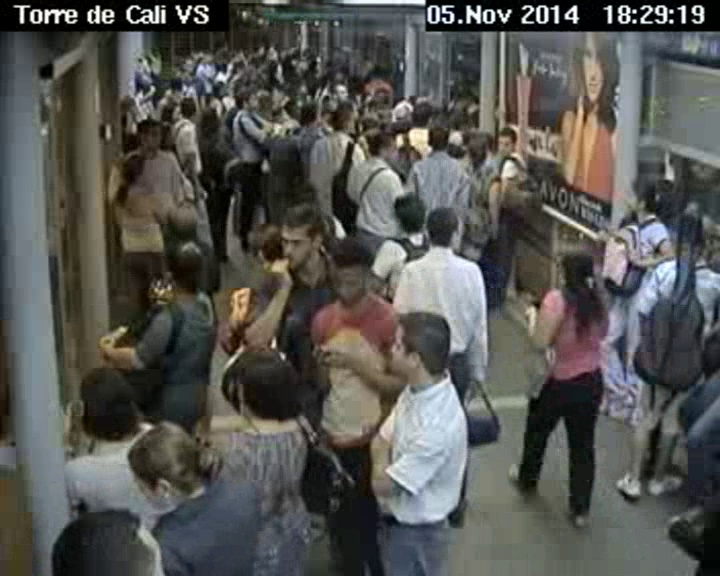person: (39, 504, 182, 576), (123, 422, 217, 510), (378, 310, 462, 390), (223, 342, 300, 419), (75, 364, 146, 436), (274, 202, 325, 284), (327, 236, 376, 307), (155, 229, 204, 293), (541, 236, 596, 292), (250, 217, 297, 280), (427, 204, 478, 257), (621, 168, 667, 224), (678, 213, 717, 261), (385, 190, 427, 233), (368, 127, 396, 165), (131, 121, 163, 151), (327, 102, 356, 132), (175, 94, 200, 127), (294, 101, 323, 129), (232, 88, 264, 113), (409, 100, 437, 128), (202, 96, 225, 129), (469, 129, 492, 161), (497, 126, 517, 154), (426, 124, 446, 151), (330, 82, 352, 99)
